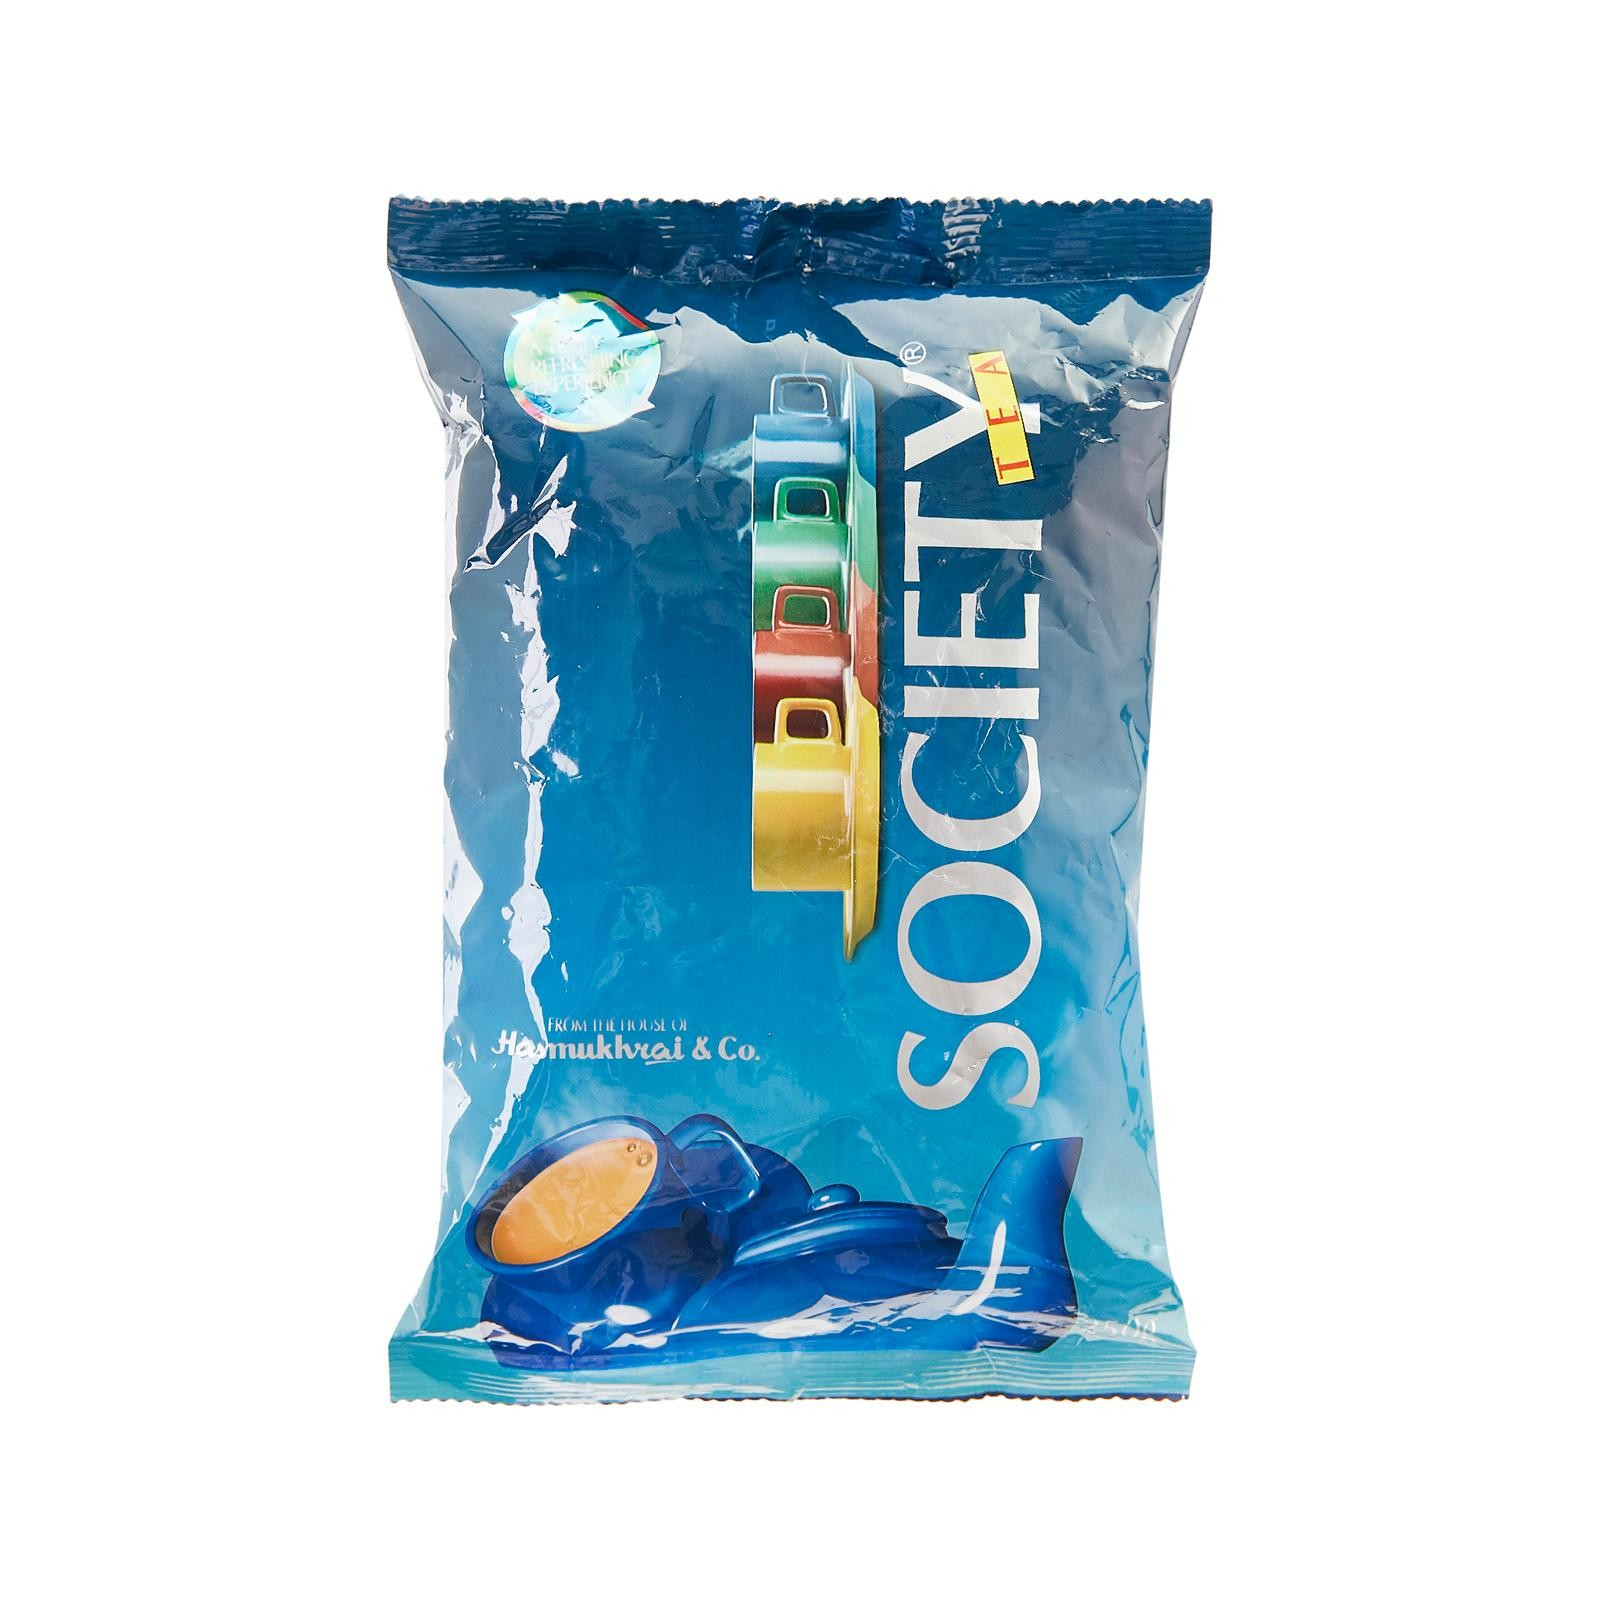society: (374, 189, 1204, 1445)
